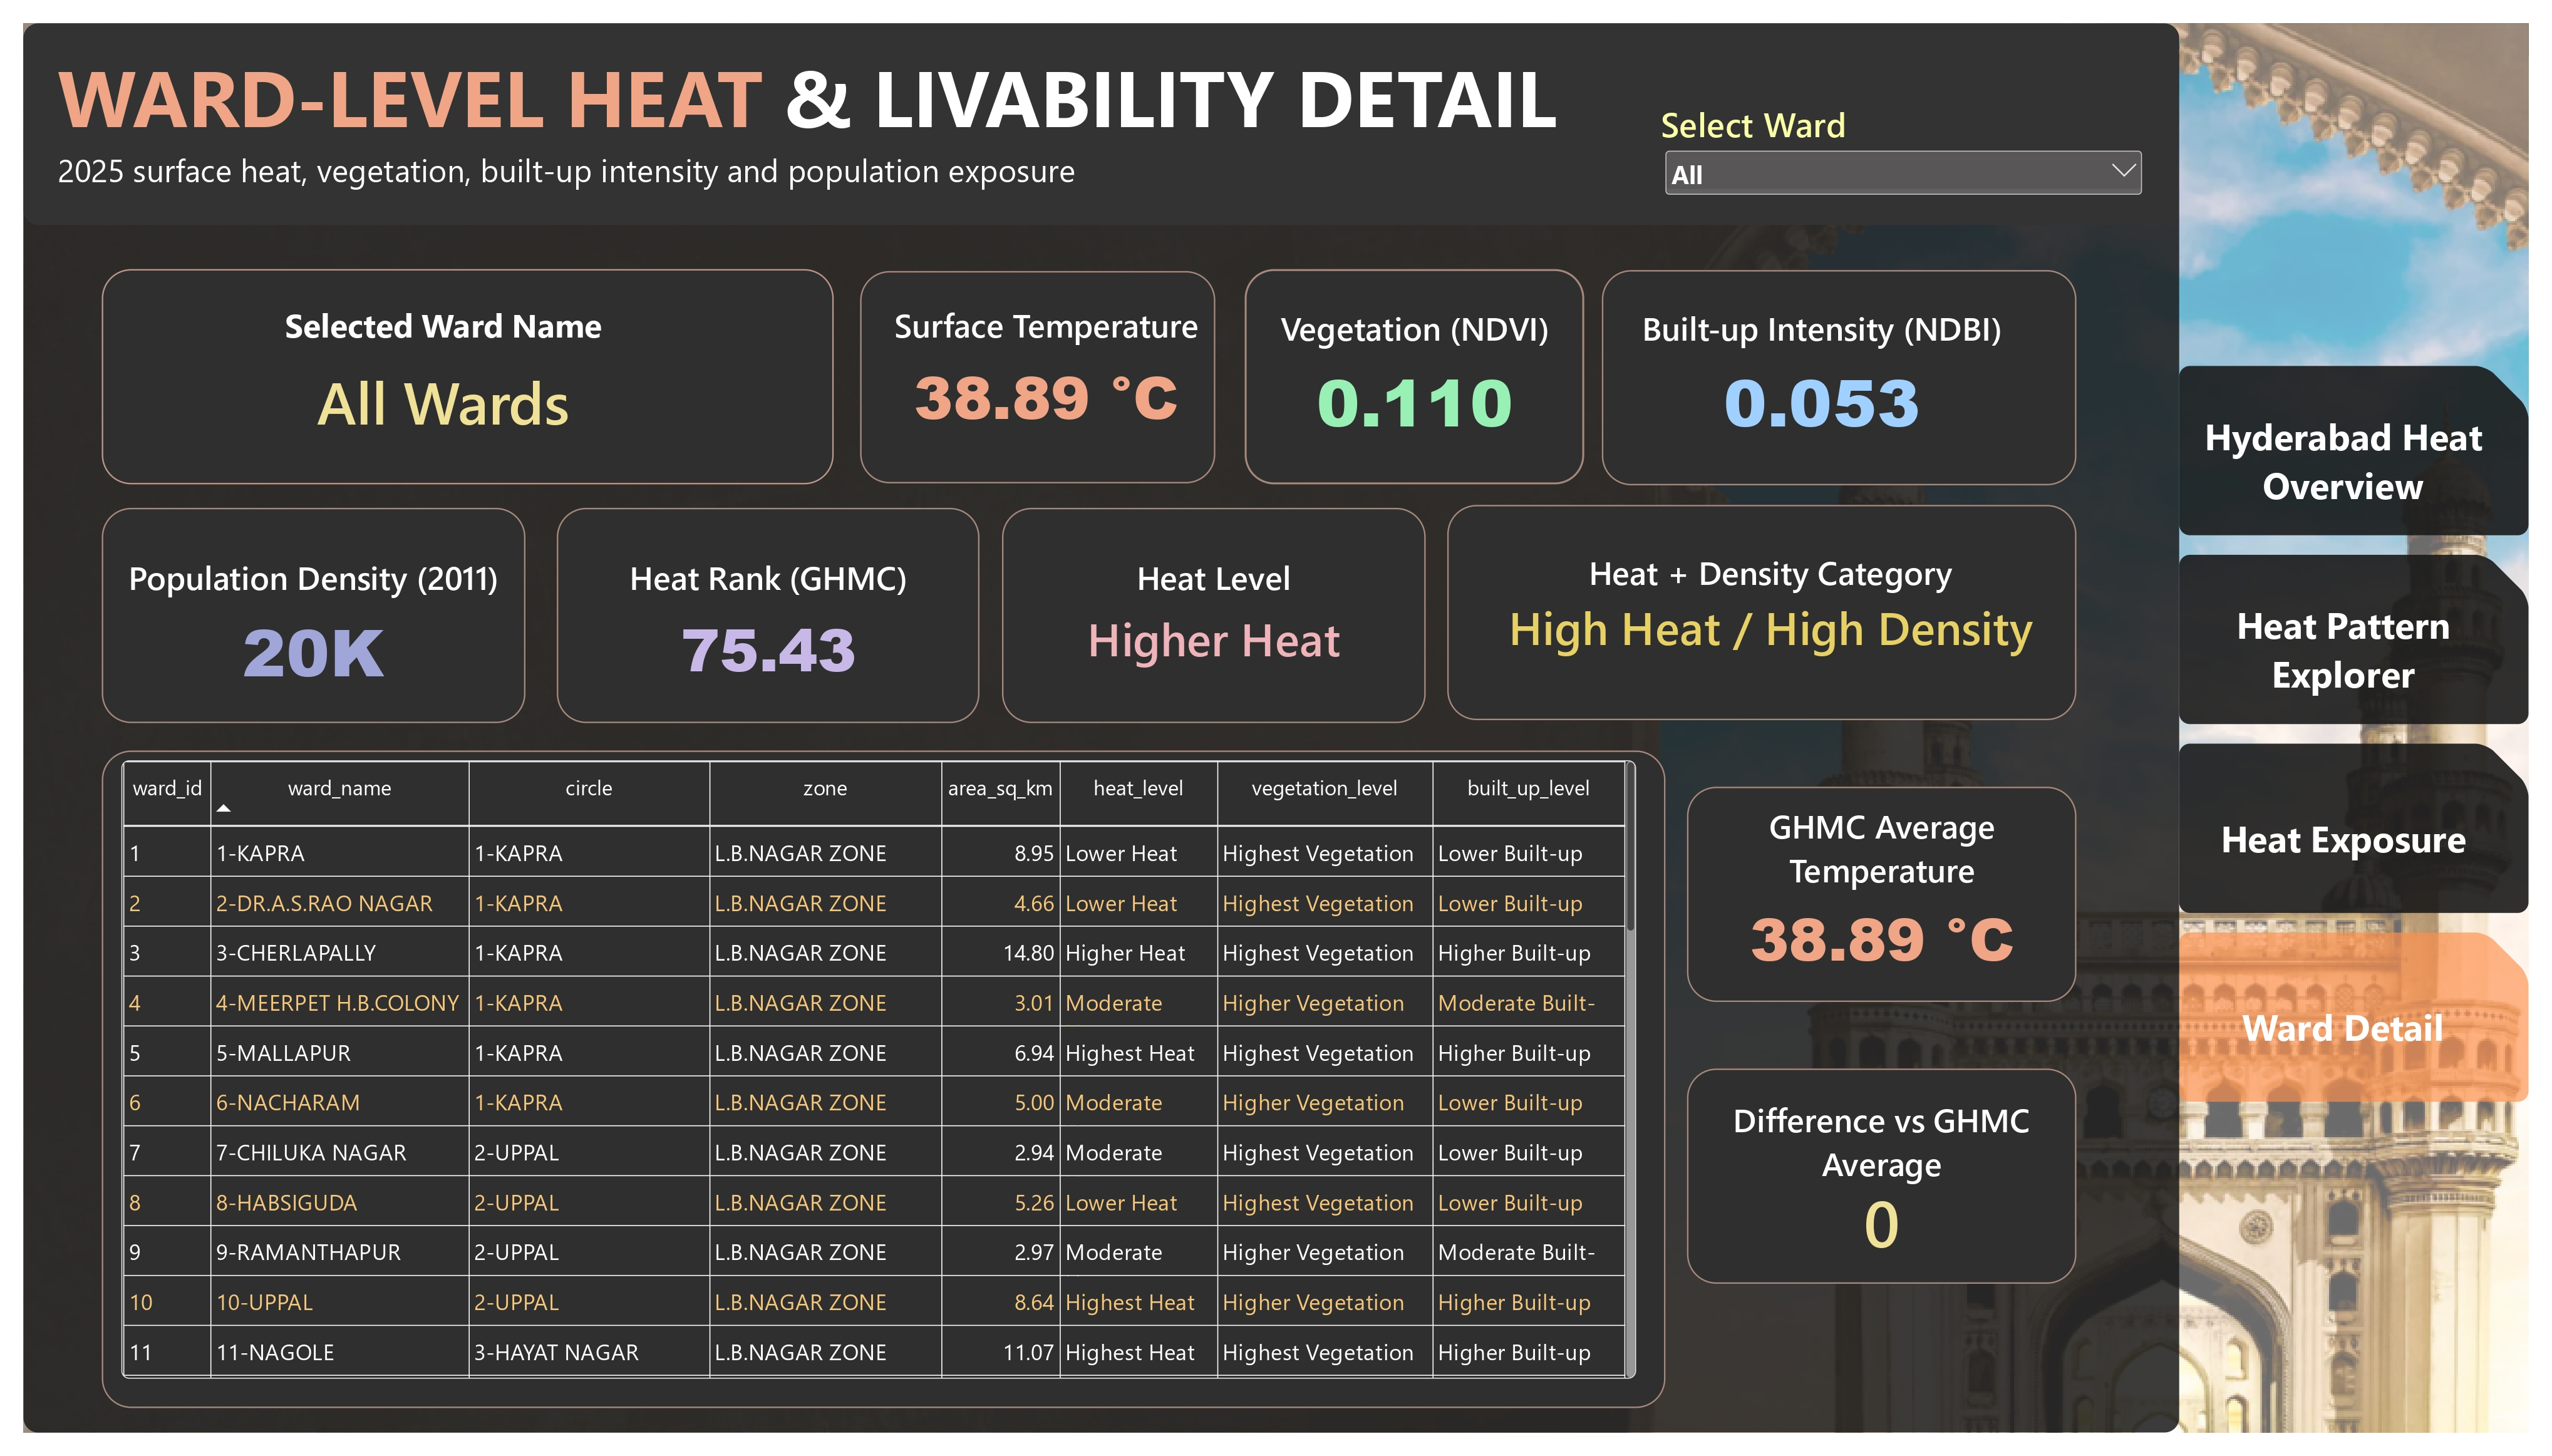

The page's visual inventory and layout, read from the dashboard file:
{"tool":"powerbi","page":{"name":"Ward Detail","canvas":[2560,1440],"ordinal":3},"visuals":[{"type":"pageNavigator","box":[2202.5,350,357.5,752.5],"z":0},{"type":"shape","box":[0,0,2202.5,1440],"z":1000},{"type":"shape","box":[855,252.5,362.5,217.5],"z":2000},{"type":"cardVisual","title":"Surface Temperature","fields":{"Data":["Ward Heat Analysis.Selected Ward Temperature Display"]},"box":[872.5,285,345,145],"z":3000},{"type":"shape","box":[1247.5,251,347.5,220],"z":4000},{"type":"cardVisual","title":"Vegetation (NDVI)","fields":{"Data":["Ward Heat Analysis.Average NDVI"]},"box":[1270,288.5,304,150],"z":5000},{"type":"shape","box":[1613.3,251.7,485,220],"z":6000},{"type":"shape","box":[80,495,432.5,220],"z":7000},{"type":"cardVisual","title":"Built-up Intensity (NDBI)","fields":{"Data":["Ward Heat Analysis.Average NDBI"]},"box":[1647.5,287.5,380,150],"z":8000},{"type":"shape","box":[80,742.5,1597.5,672.5],"z":8500},{"type":"cardVisual","title":"Population Density (2011)","fields":{"Data":["Ward Heat Analysis.Average Density 2011"]},"box":[80,542.5,432.5,150],"z":9000},{"type":"tableEx","fields":{"Values":["Ward Heat Analysis.ward_id","Ward Heat Analysis.ward_name","Ward Heat Analysis.circle","Ward Heat Analysis.zone","Ward Heat Analysis.area_sq_km","Ward Heat Analysis.heat_level","Ward Heat Analysis.vegetation_level","Ward Heat Analysis.built_up_level"]},"box":[100,753.3,1548.3,631.7],"z":10000},{"type":"shape","box":[1000,495,432.5,220],"z":11000},{"type":"shape","box":[1455,491.7,643.3,220],"z":12000},{"type":"cardVisual","title":"Heat Level","fields":{"Data":["Min(Ward Heat Analysis.heat_level)"]},"box":[985,542.5,462.5,125],"z":13000},{"type":"shape","box":[544.5,495,432.5,220],"z":14000},{"type":"shape","box":[1700,780,398.3,220],"z":14500},{"type":"cardVisual","title":"Heat + Density Category","fields":{"Data":["Min(Ward Heat Analysis.heat_density_category)"]},"box":[1490,521.7,591.2,143.8],"z":15000},{"type":"shape","box":[1700,1068.3,398.3,220],"z":15500},{"type":"cardVisual","title":"Heat Rank (GHMC)","fields":{"Data":["Avg(Ward Heat Analysis.heat_rank)"]},"box":[550,542.5,422.5,145],"z":16000},{"type":"cardVisual","title":"GHMC Average Temperature","fields":{"Data":["Ward Heat Analysis.GHMC Average Temperature Display"]},"box":[1718.3,796.7,362.9,184.3],"z":17000},{"type":"cardVisual","title":"Difference vs GHMC Average","fields":{"Data":["Ward Heat Analysis.Temperature Difference vs GHMC"]},"box":[1718.3,1096.7,361.7,163.3],"z":18000},{"type":"shape","box":[0,0,2202,206],"z":19000},{"type":"textbox","box":[35,20,1547.5,185],"z":20000},{"type":"shape","box":[80,251,747.5,220],"z":21000},{"type":"slicer","title":"Select Ward","fields":{"Values":["Ward Heat Analysis.ward_name"]},"box":[1672.5,77.5,497.5,393],"z":22000},{"type":"cardVisual","title":"Selected Ward","fields":{"Data":["Ward Heat Analysis.Selected Ward Name"]},"box":[67.5,177.5,722.5,357.5],"z":23000}]}

Visuals, with their boxes on the page's 2560x1440 design canvas (x1, y1, x2, y2). These are canvas units, not pixel positions in the 2552x1456 screenshot, which may show the page scaled, cropped or inside an application window:
pageNavigator: bbox(2202, 350, 2560, 1102)
shape: bbox(0, 0, 2202, 1440)
shape: bbox(855, 252, 1218, 470)
"Surface Temperature" cardVisual: bbox(872, 285, 1218, 430)
shape: bbox(1248, 251, 1595, 471)
"Vegetation (NDVI)" cardVisual: bbox(1270, 288, 1574, 438)
shape: bbox(1613, 252, 2098, 472)
shape: bbox(80, 495, 512, 715)
"Built-up Intensity (NDBI)" cardVisual: bbox(1648, 288, 2028, 438)
shape: bbox(80, 742, 1678, 1415)
"Population Density (2011)" cardVisual: bbox(80, 542, 512, 692)
tableEx - Ward Heat Analysis.ward_id x Ward Heat Analysis.ward_name: bbox(100, 753, 1648, 1385)
shape: bbox(1000, 495, 1432, 715)
shape: bbox(1455, 492, 2098, 712)
"Heat Level" cardVisual: bbox(985, 542, 1448, 668)
shape: bbox(544, 495, 977, 715)
shape: bbox(1700, 780, 2098, 1000)
"Heat + Density Category" cardVisual: bbox(1490, 522, 2081, 666)
shape: bbox(1700, 1068, 2098, 1288)
"Heat Rank (GHMC)" cardVisual: bbox(550, 542, 972, 688)
"GHMC Average Temperature" cardVisual: bbox(1718, 797, 2081, 981)
"Difference vs GHMC Average" cardVisual: bbox(1718, 1097, 2080, 1260)
shape: bbox(0, 0, 2202, 206)
textbox: bbox(35, 20, 1582, 205)
shape: bbox(80, 251, 828, 471)
"Select Ward" slicer: bbox(1672, 78, 2170, 470)
"Selected Ward" cardVisual: bbox(68, 178, 790, 535)
